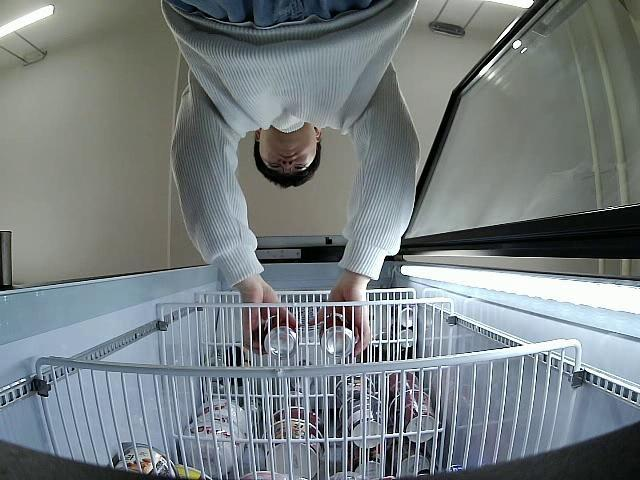11_cocaColaZero: (260, 316, 301, 359), (320, 314, 357, 357)
